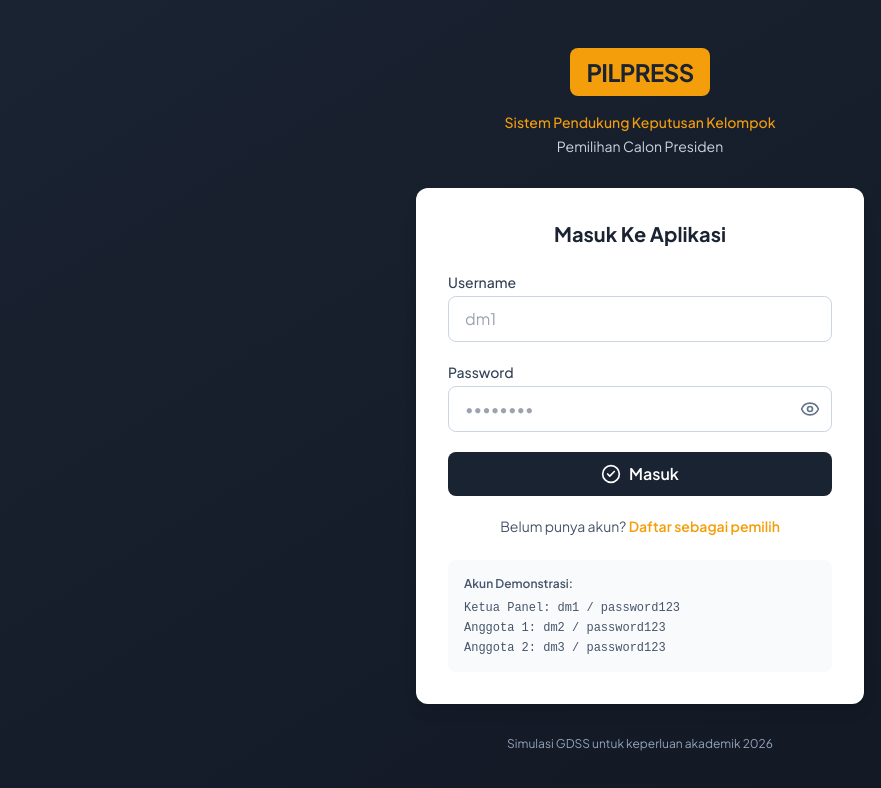
LoginPage Comprehensive Suite › 1. Menampilkan validasi inline saat username dan password kosong
Click the button "Masuk" at (640, 474), box [448,452,832,496]
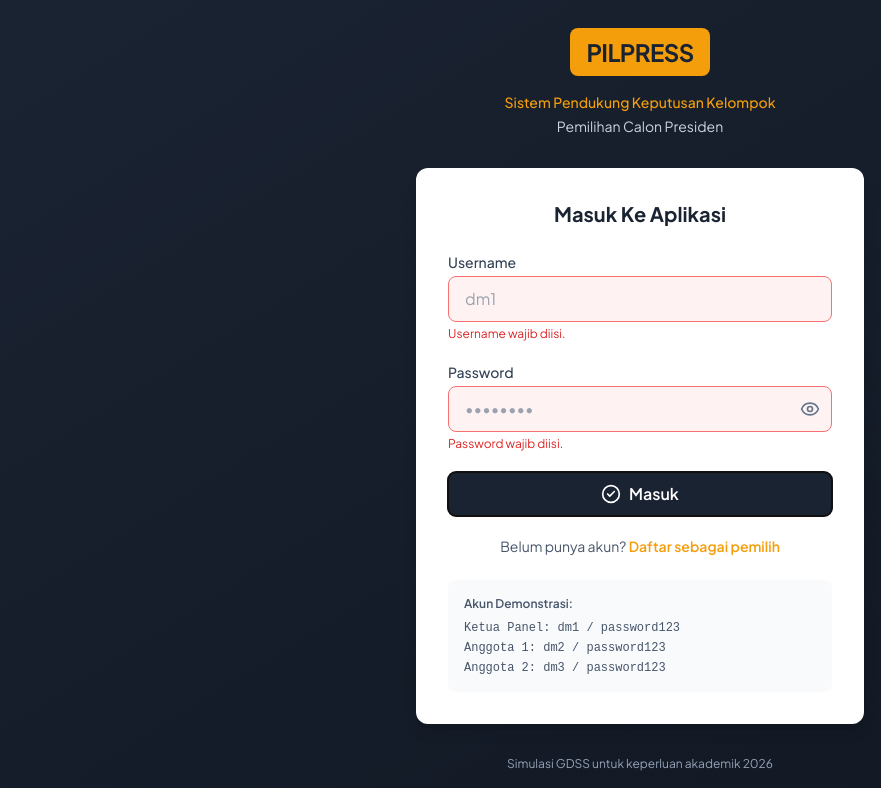
Now the text "Username wajib diisi." is shown, box [448,326,566,341]
Now the text "Password wajib diisi." is shown, box [448,436,563,451]
